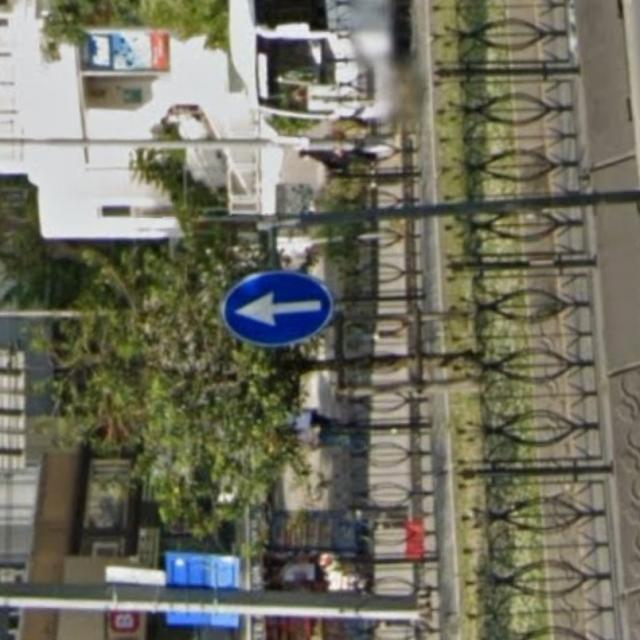Turn Left: (219, 270, 335, 350)
